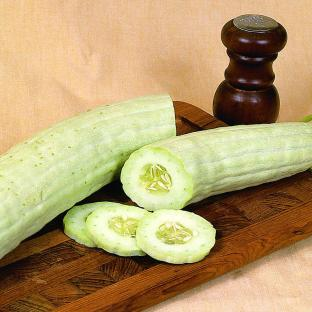Cucumber: (0, 94, 175, 258), (121, 123, 311, 210), (137, 210, 215, 263), (86, 205, 151, 256), (64, 202, 121, 247)
